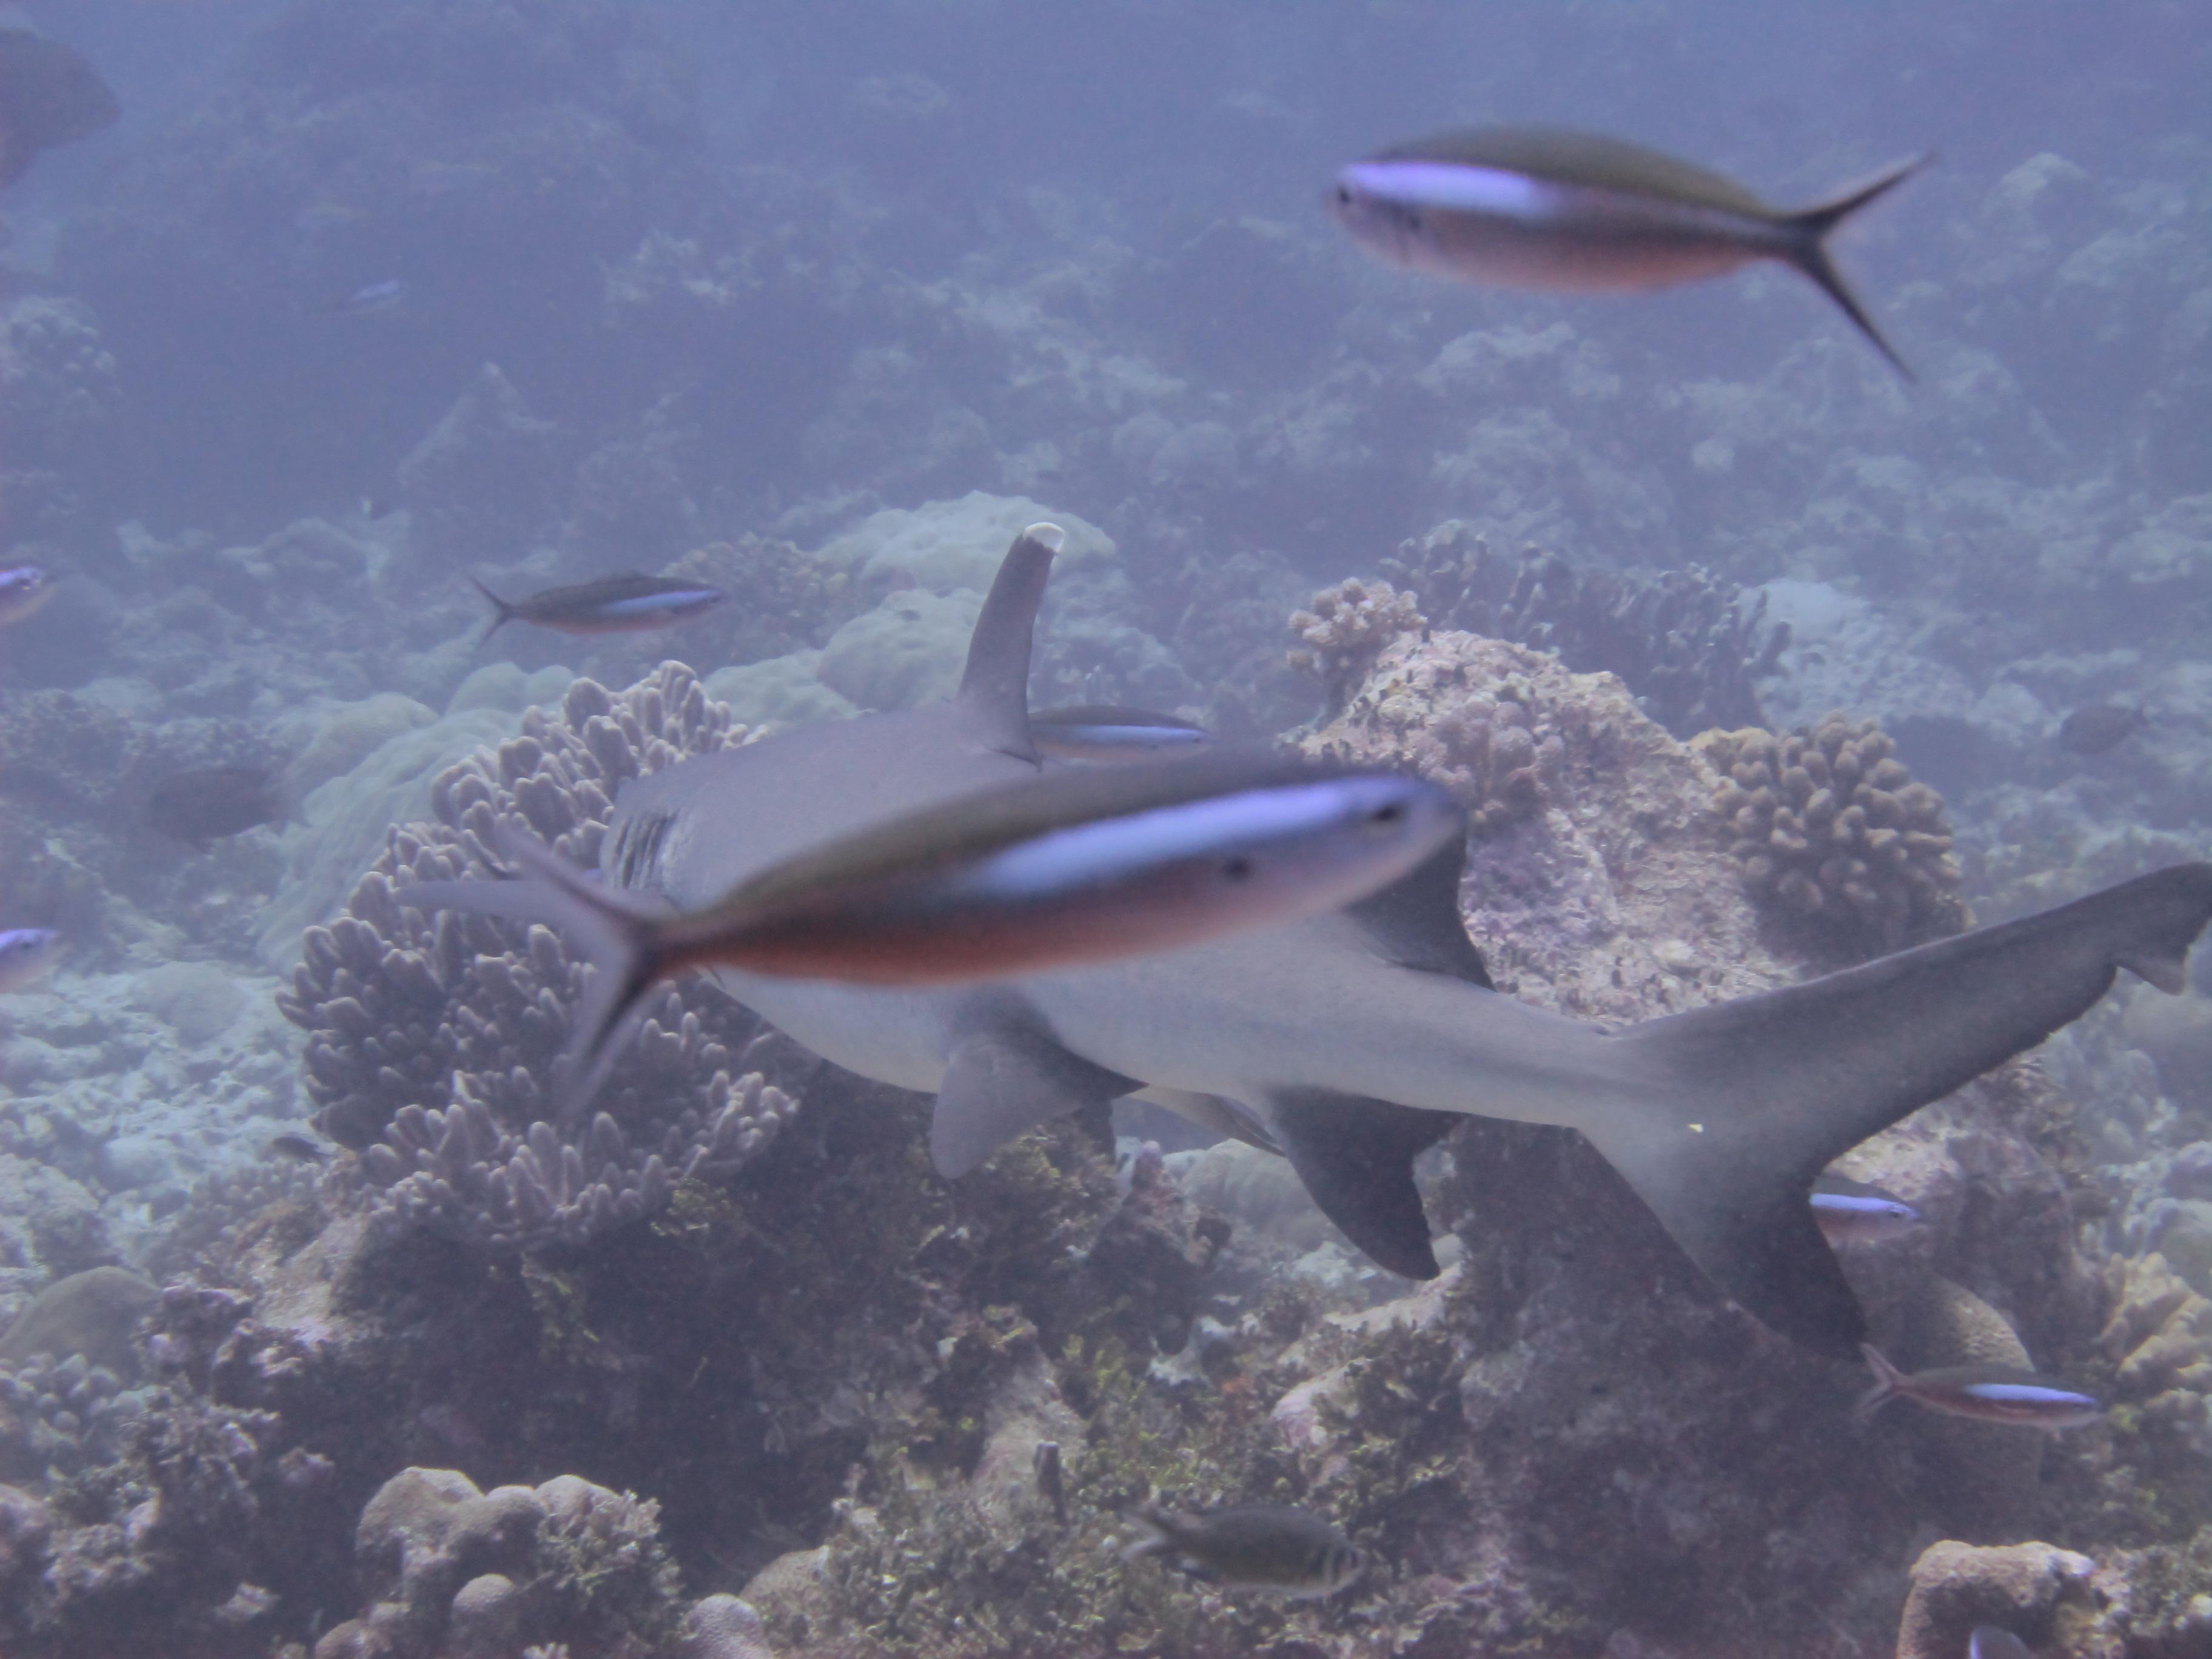Fish: (519, 528, 2212, 1352)
